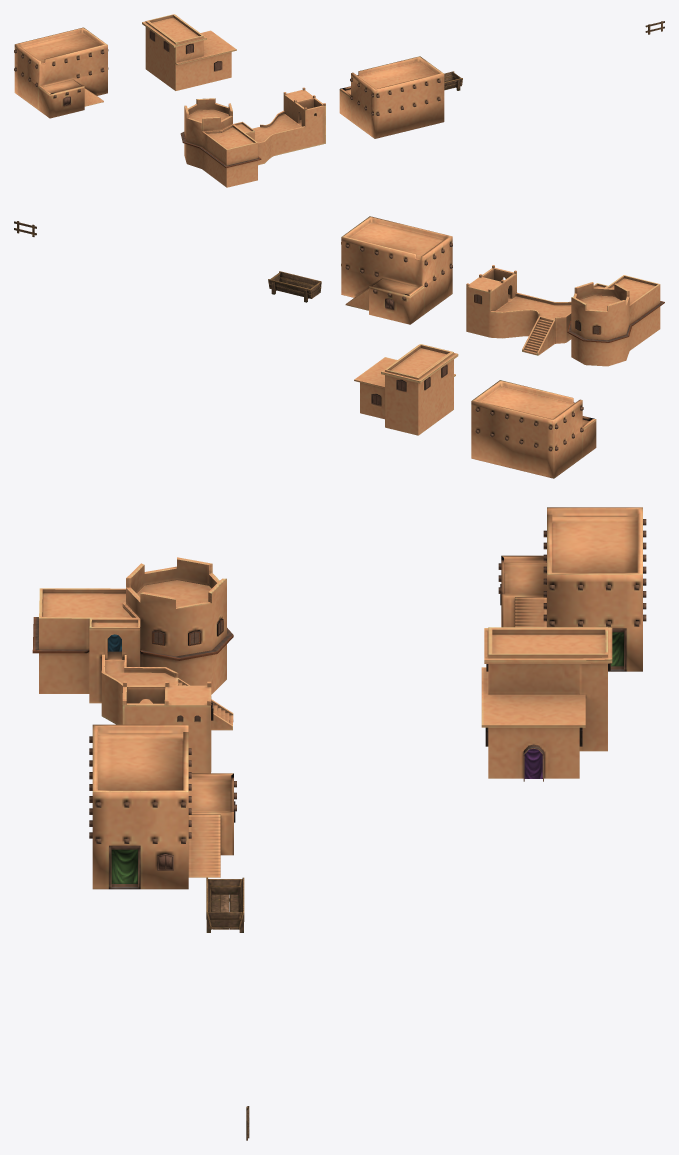
The model's file is desert_environment.fbx.
The picture shows the model from 3 angles, top to bottom: view 1: azimuth 30°, elevation 25°; view 2: azimuth 150°, elevation 25°; view 3: azimuth 270°, elevation 25°; orthographic projection. The views are drawn at different scales.
Visible parts, largest first — view 1: Object_6, Object_8.001, Object_8, Object_4, defaultMaterial.014; view 2: Object_6, Object_8, Object_8.001, Object_4, defaultMaterial.014; view 3: Object_6, Object_8, Object_4, Object_8.001, defaultMaterial.014.
Part boxes in pixels (x1,y1,x2,y2): Object_6: [180, 87, 325, 187]; Object_8.001: [14, 27, 108, 118]; Object_8: [339, 56, 444, 138]; Object_4: [142, 14, 236, 90]; defaultMaterial.014: [444, 71, 462, 90]; Object_6: [466, 265, 664, 366]; Object_8: [341, 216, 452, 324]; Object_8.001: [471, 380, 596, 478]; Object_4: [354, 344, 458, 435]; defaultMaterial.014: [268, 271, 321, 302]; Object_6: [32, 557, 233, 773]; Object_8: [89, 724, 236, 889]; Object_4: [481, 627, 612, 781]; Object_8.001: [498, 507, 646, 671]; defaultMaterial.014: [206, 877, 244, 932].
Bounding box in the file's own units: 1145 × 101 × 550.
